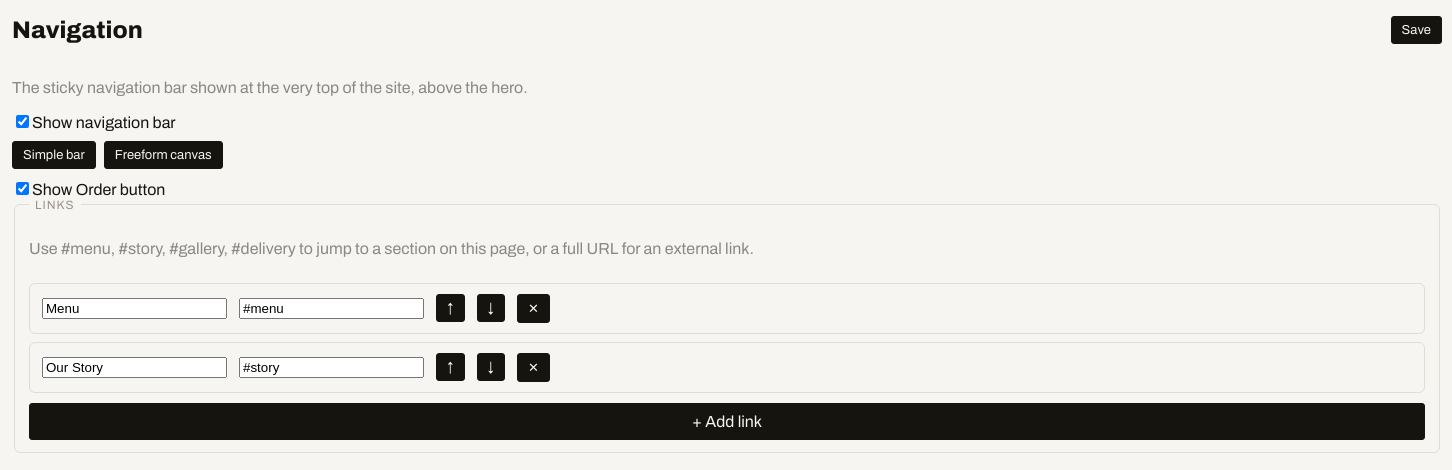
Test: NavbarEditor › removing a link shrinks the list
Click the button named "remove nav link" at {"x": 533, "y": 308}, box x1=517 y1=294 x2=550 y2=323
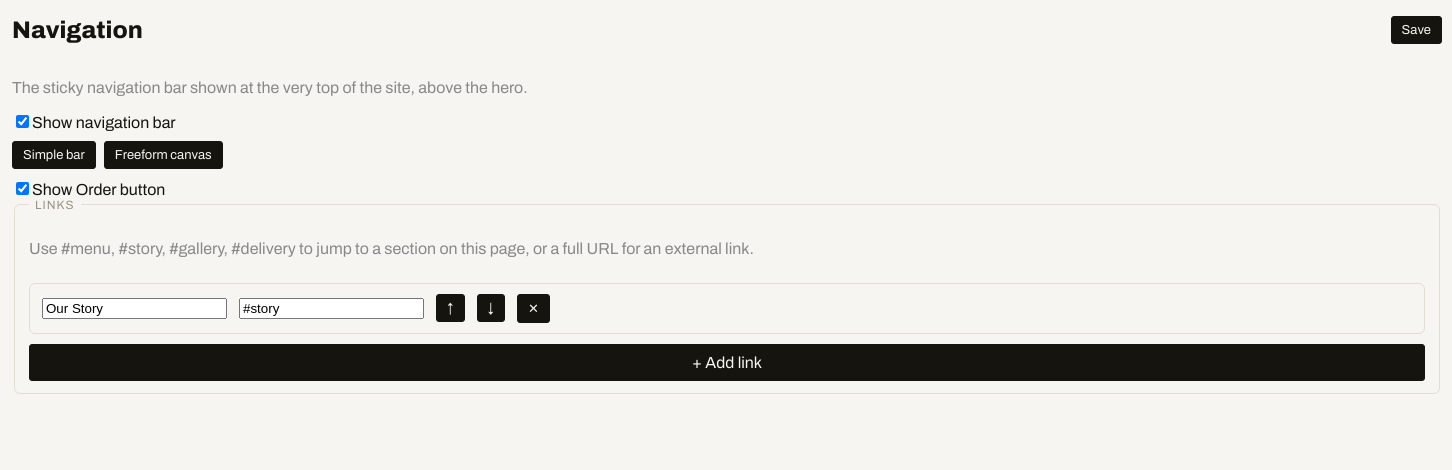
Expected: the number of list items is 1, x1=29 y1=283 x2=1425 y2=334
